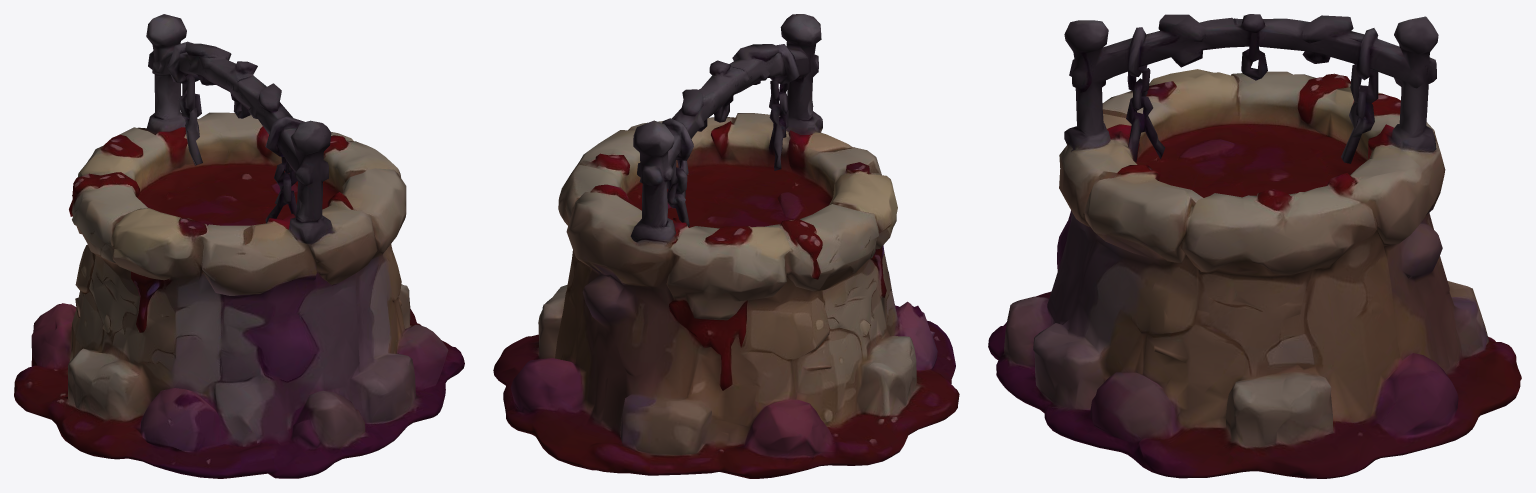
The model's file is blood-well.glb.
3 renders of one model, left to right at view 1: azimuth 30°, elevation 25°; view 2: azimuth 150°, elevation 25°; view 3: azimuth 270°, elevation 25°, orthographic. The views are drawn at different scales.
Visible parts, largest first — view 1: tripo_node_36af4faf-5982-450b-a180-323aac6e1056; view 2: tripo_node_36af4faf-5982-450b-a180-323aac6e1056; view 3: tripo_node_36af4faf-5982-450b-a180-323aac6e1056.
Boxes of the visible parts, left/top/right/bottom form: tripo_node_36af4faf-5982-450b-a180-323aac6e1056: left=14, top=14, right=464, bottom=478; tripo_node_36af4faf-5982-450b-a180-323aac6e1056: left=493, top=14, right=959, bottom=478; tripo_node_36af4faf-5982-450b-a180-323aac6e1056: left=988, top=14, right=1521, bottom=478.
Size of the model in its own units: 0.9533 by 0.7533 by 1.
1 material, 1 textured.
